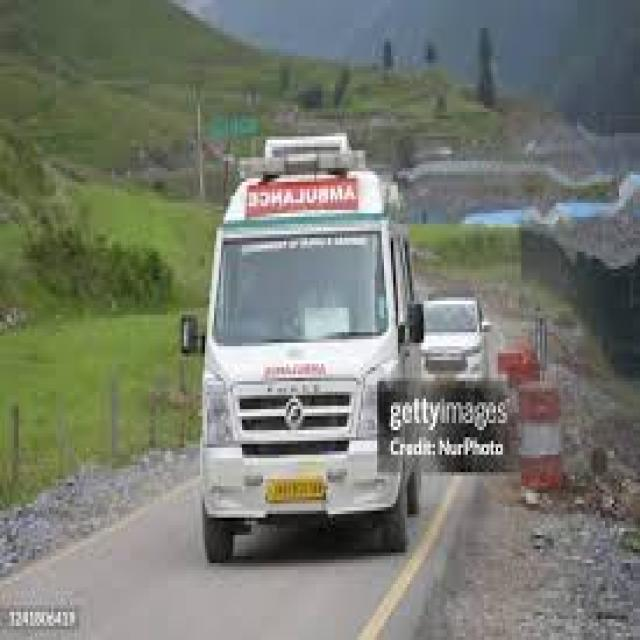emergency: (198, 126, 420, 562)
